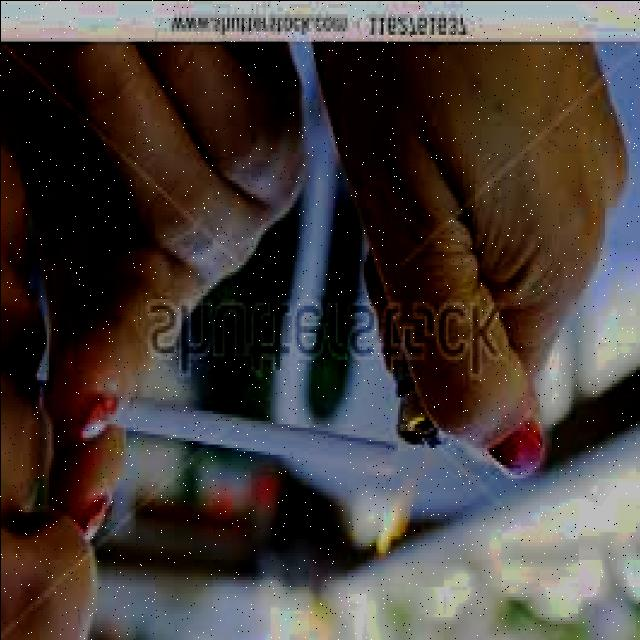api: (350, 441, 444, 563)
